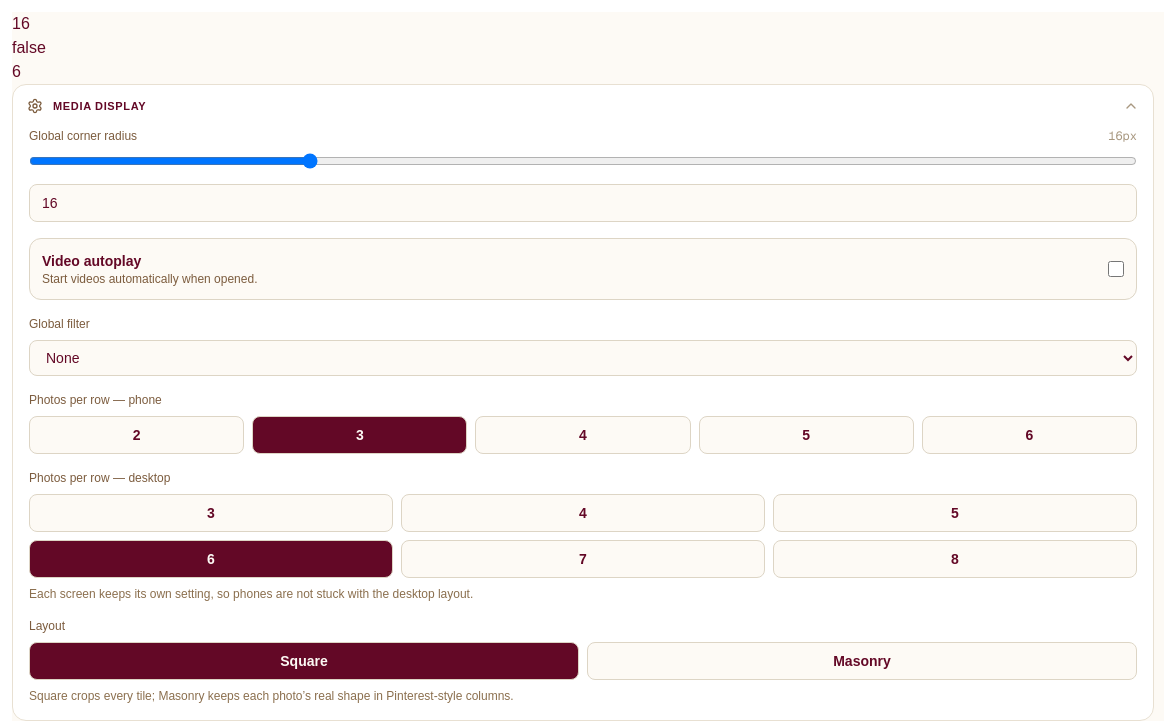
MediaSettingsPanels -- what goes on the wire › a desktop value chosen AGAIN after an intervening click survives the first request failing late
This screenshot has width=1164, height=721.
Click the 2nd button "4" at (583, 512), box [401,494,765,532]
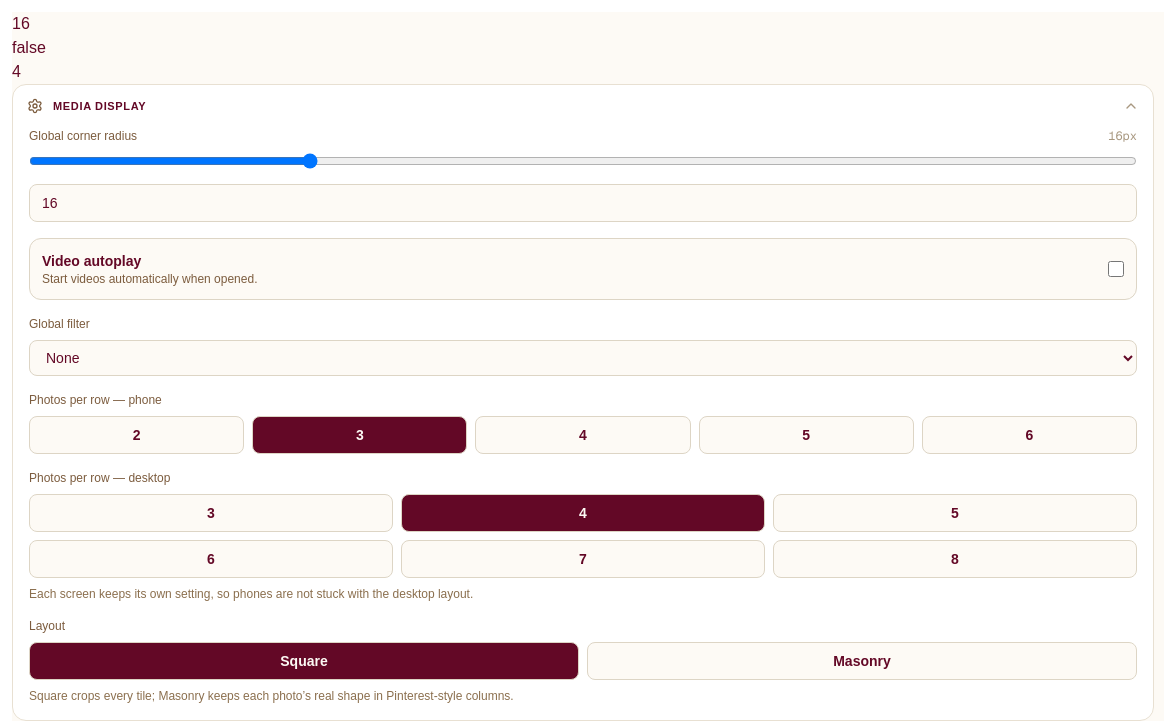
Click the 2nd button "5" at (955, 512), box [773,494,1137,532]
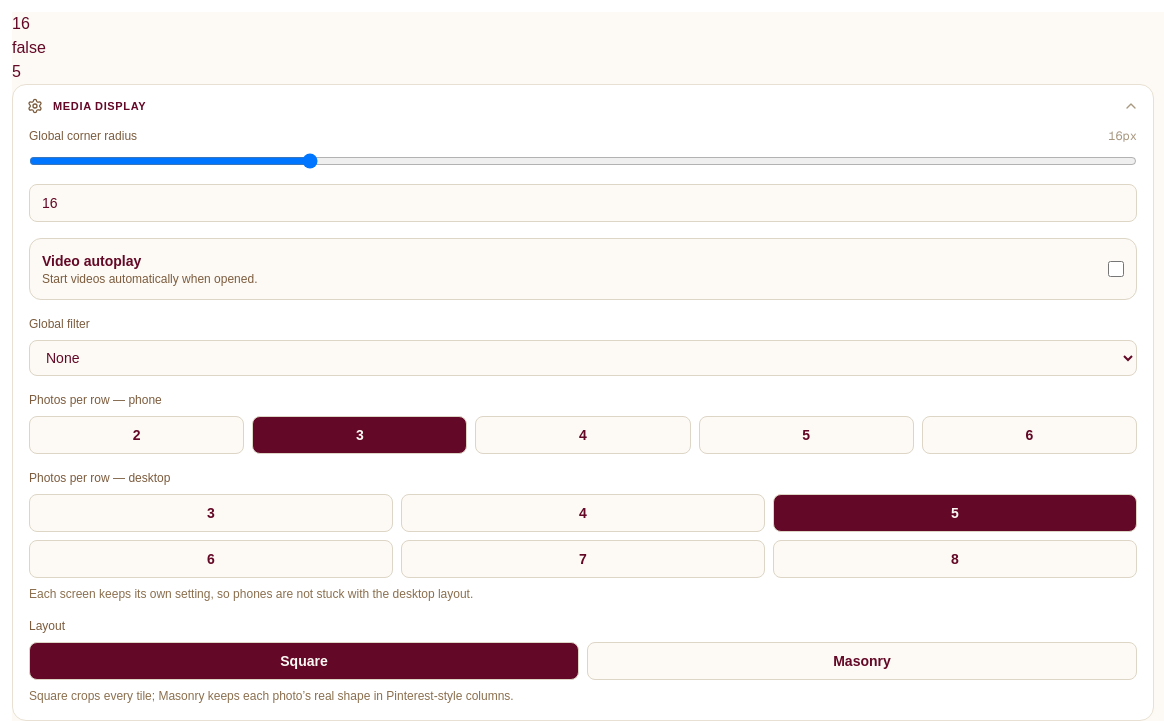
Click the 2nd button "4" at (583, 512), box [401,494,765,532]
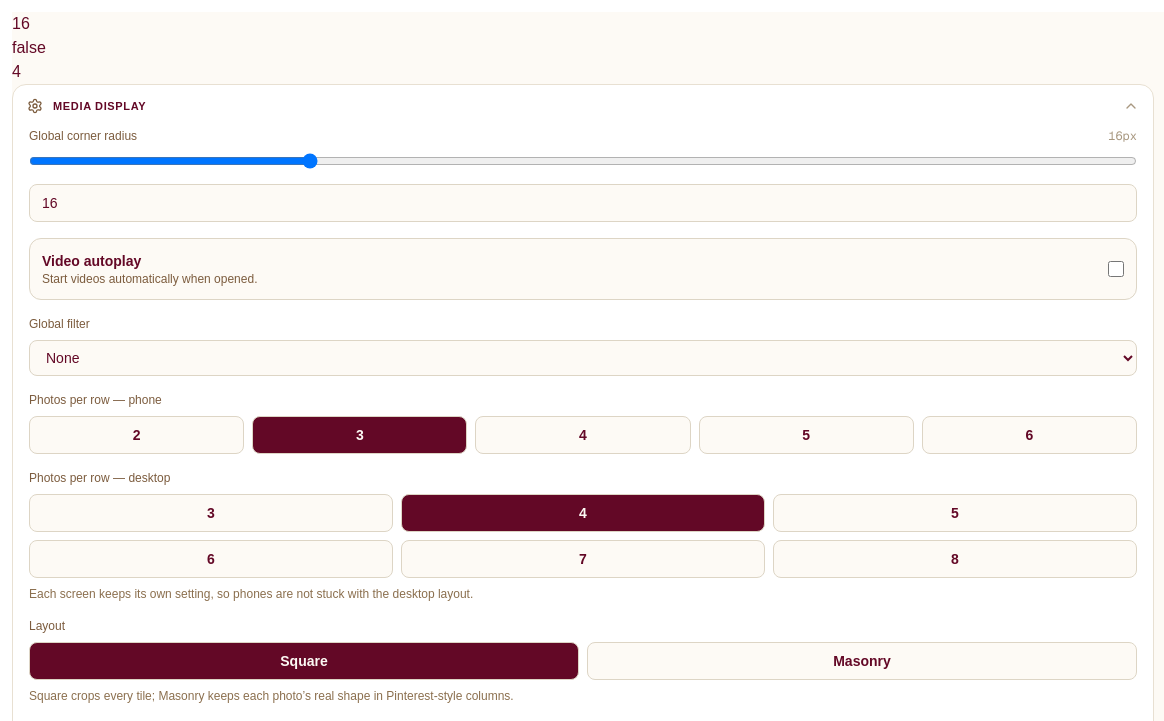
expect the text with test id "album-desktop" reads "4": met, box [12,63,21,80]
